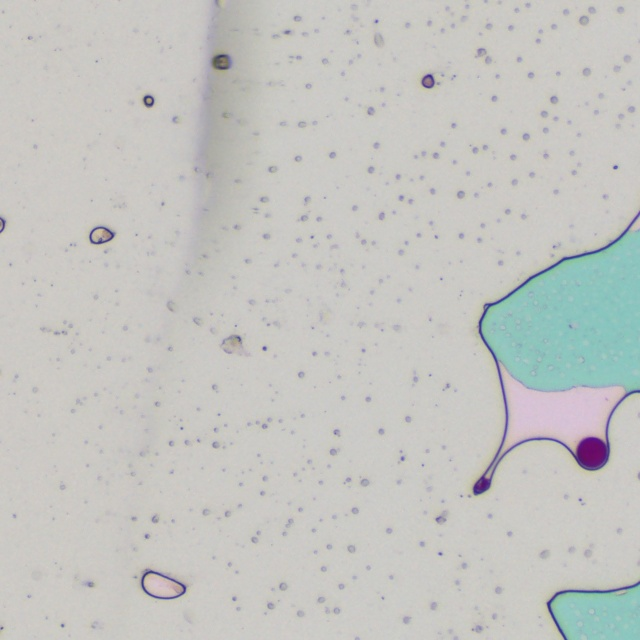viable: (577, 438, 607, 468)
